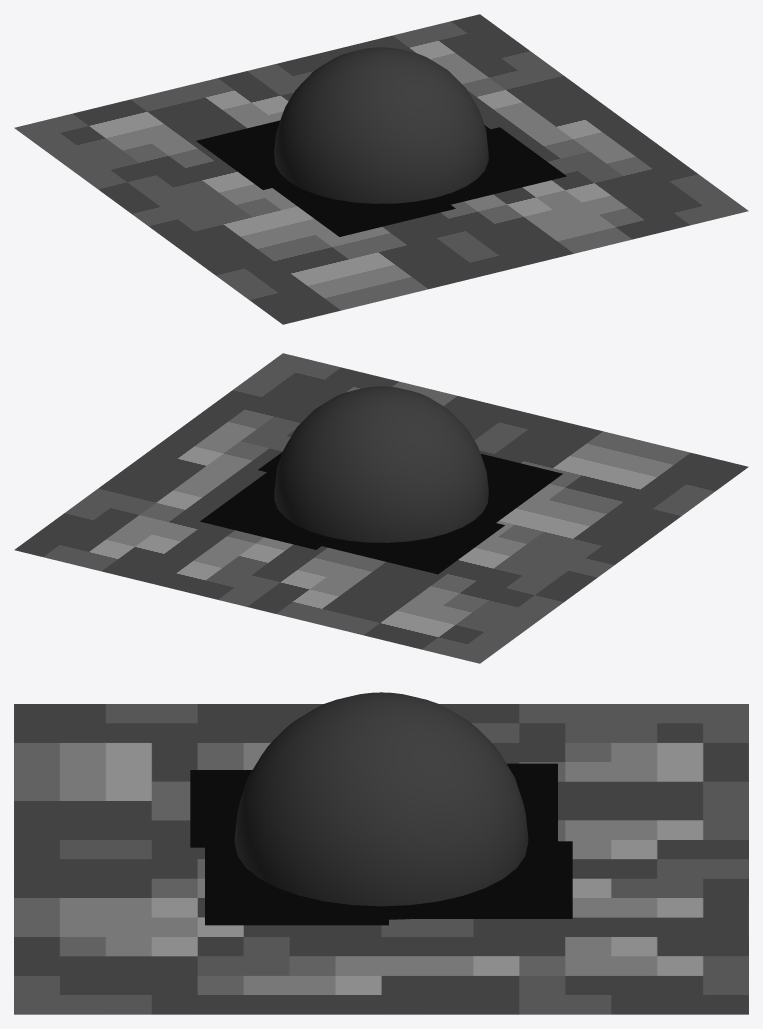
Rendered from Interior_MagicWorld.fbx.
3 views of the same model, one above another, from view 1: azimuth 30°, elevation 25°; view 2: azimuth 150°, elevation 25°; view 3: azimuth 270°, elevation 25° (orthographic). The views are drawn at different scales.
Visible parts, largest first — view 1: StaticMeshActor_8, StaticMeshActor_1, StaticMeshActor_6, StaticMeshActor_4, StaticMeshActor_5; view 2: StaticMeshActor_8, StaticMeshActor_1, StaticMeshActor_5, StaticMeshActor_0, StaticMeshActor_6; view 3: StaticMeshActor_8, StaticMeshActor_1, StaticMeshActor_4, StaticMeshActor_0, StaticMeshActor_6, StaticMeshActor_5.
Part boxes in pixels (bbox=[...]): StaticMeshActor_8: bbox=[14, 14, 748, 324]; StaticMeshActor_1: bbox=[274, 47, 488, 203]; StaticMeshActor_6: bbox=[273, 183, 455, 236]; StaticMeshActor_4: bbox=[440, 127, 566, 204]; StaticMeshActor_5: bbox=[196, 120, 291, 189]; StaticMeshActor_8: bbox=[14, 353, 748, 663]; StaticMeshActor_1: bbox=[274, 386, 488, 542]; StaticMeshActor_5: bbox=[322, 518, 504, 574]; StaticMeshActor_0: bbox=[200, 472, 332, 549]; StaticMeshActor_6: bbox=[477, 453, 562, 522]; StaticMeshActor_8: bbox=[14, 704, 748, 1014]; StaticMeshActor_1: bbox=[234, 692, 528, 919]; StaticMeshActor_4: bbox=[205, 847, 388, 925]; StaticMeshActor_0: bbox=[389, 841, 572, 918]; StaticMeshActor_6: bbox=[190, 770, 252, 847]; StaticMeshActor_5: bbox=[507, 763, 557, 841].
Size of what is drawn, in the model's own units: 1e+07 by 1e+07 by 4000000.
6 materials, 2 textured.
